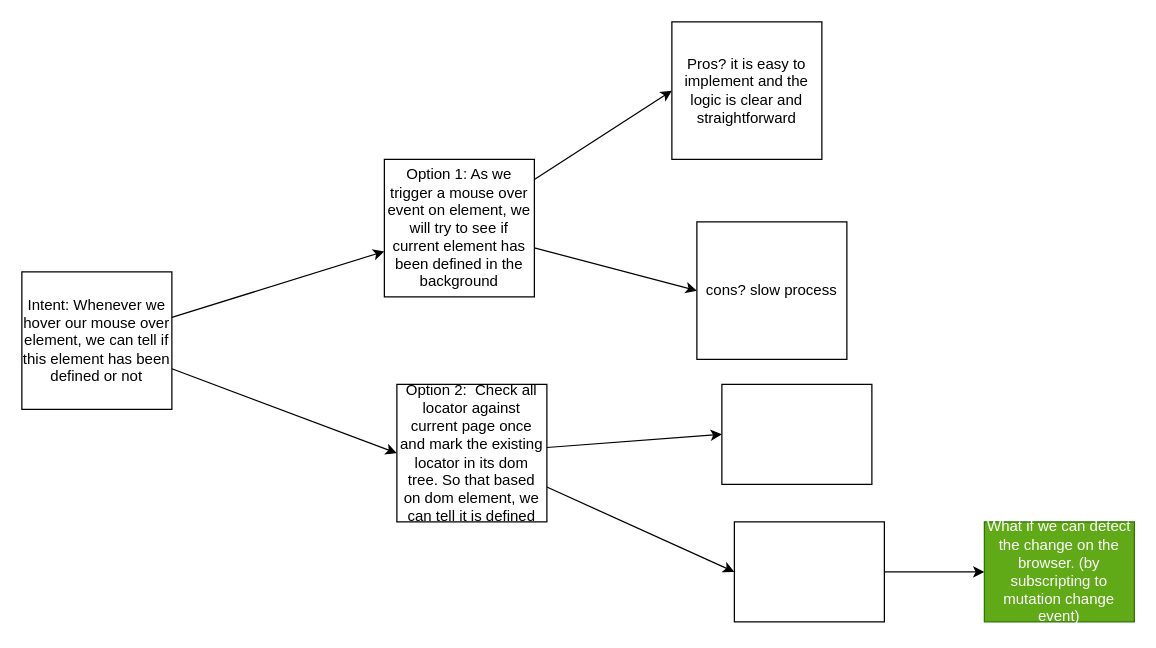
Image size: 1156x648. Some labels were removed from this diagram. The centre of each missing label's shape, as x and y in pixels:
"cons: What if page just after it finish initial loading?" goes at (808,571).
"pro: compare it once and cache the information. Fast" goes at (796,433).
